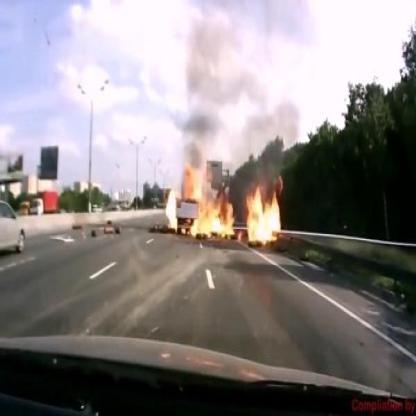fire: (186, 157, 285, 245), (163, 182, 179, 232)
